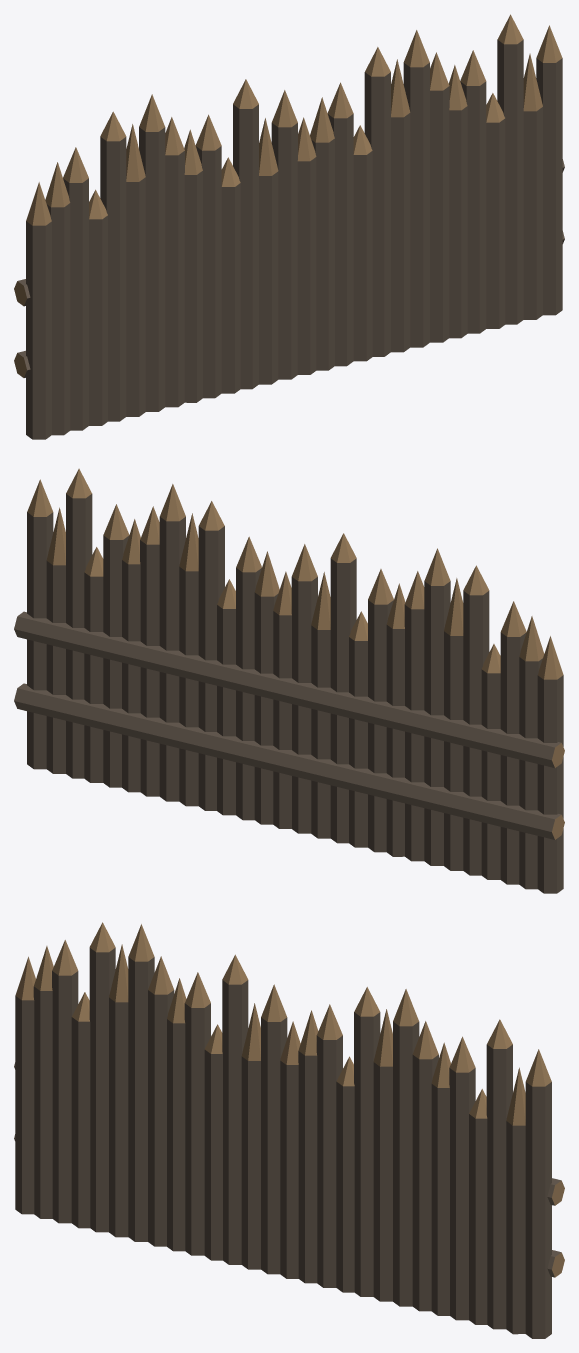
File: Wood_Wall_01.fbx
The picture shows the model from 3 angles, top to bottom: view 1: azimuth 30°, elevation 25°; view 2: azimuth 150°, elevation 25°; view 3: azimuth 330°, elevation 25°; orthographic projection.
Parts seen in each view (by area): view 1: Wood_Wall_01; view 2: Wood_Wall_01; view 3: Wood_Wall_01.
Boxes of the visible parts, x1=… form: Wood_Wall_01: x1=14, y1=14, x2=564, y2=439; Wood_Wall_01: x1=14, y1=468, x2=564, y2=893; Wood_Wall_01: x1=14, y1=922, x2=564, y2=1338.
Bounding box in the file's own units: 175 × 97.33 × 10.41.
